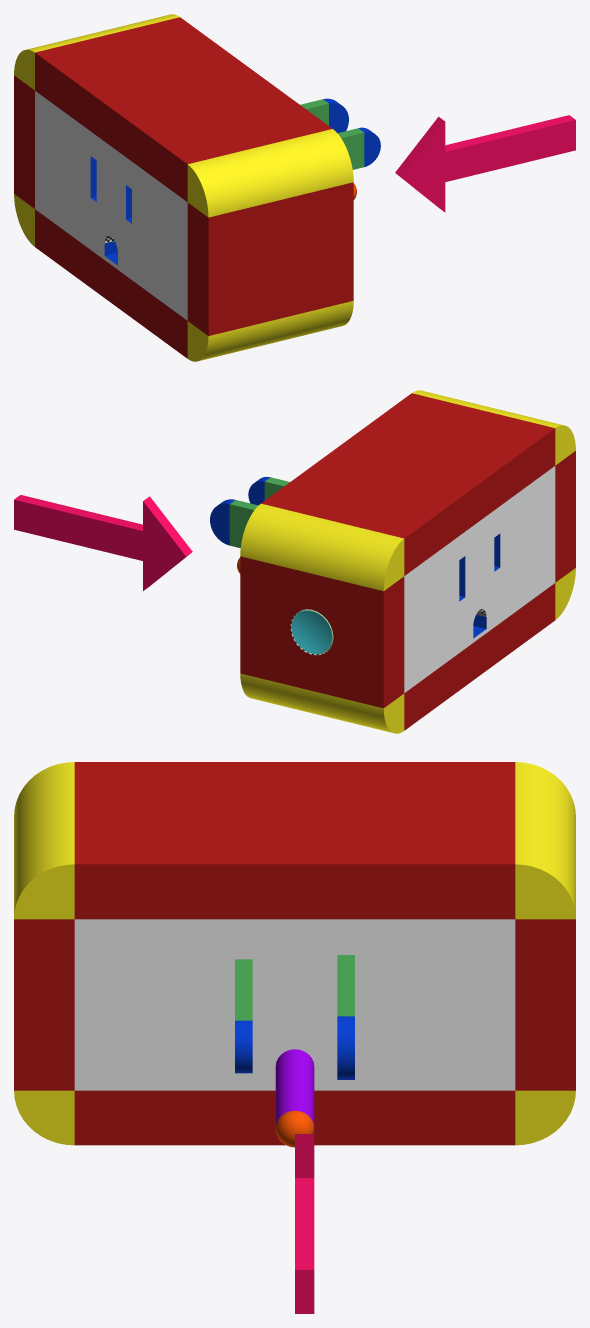
The model's file is Case_Study_SmartSwitch_11.glb.
3 views of the same model, one above another, from view 1: azimuth 30°, elevation 25°; view 2: azimuth 150°, elevation 25°; view 3: azimuth 270°, elevation 25° (orthographic). The views are drawn at different scales.
Parts seen in each view (by area): view 1: Part, Part 7, Part 6, Part 12, Part 3, Part 8; view 2: Part, Part 7, Part 6, Part 12, Part 3, Part 5, Part 8; view 3: Part, Part 7, Part 6, Part 12, Part 9, Part 8, Part 3, Part 11.
Boxes of the visible parts, x1=… form: Part: x1=14, y1=17, x2=353, y2=358; Part 7: x1=35, y1=91, x2=187, y2=320; Part 6: x1=14, y1=14, x2=353, y2=361; Part 12: x1=395, y1=115, x2=575, y2=212; Part 3: x1=90, y1=98, x2=380, y2=265; Part 8: x1=300, y1=99, x2=364, y2=169; Part: x1=240, y1=393, x2=575, y2=730; Part 7: x1=404, y1=466, x2=555, y2=692; Part 6: x1=240, y1=390, x2=575, y2=733; Part 12: x1=14, y1=495, x2=192, y2=590; Part 3: x1=210, y1=476, x2=500, y2=638; Part 5: x1=292, y1=610, x2=331, y2=653; Part 8: x1=229, y1=477, x2=289, y2=548; Part: x1=14, y1=762, x2=575, y2=1145; Part 7: x1=74, y1=919, x2=515, y2=1090; Part 6: x1=14, y1=762, x2=575, y2=1145; Part 12: x1=295, y1=1134, x2=314, y2=1313; Part 9: x1=275, y1=1049, x2=314, y2=1126; Part 8: x1=235, y1=955, x2=354, y2=1020; Part 3: x1=235, y1=1016, x2=354, y2=1079; Part 11: x1=275, y1=1110, x2=314, y2=1147.
Bounding box in the file's own units: 0.1016 × 0.0406 × 0.0737.
12 materials, 2 textured.
